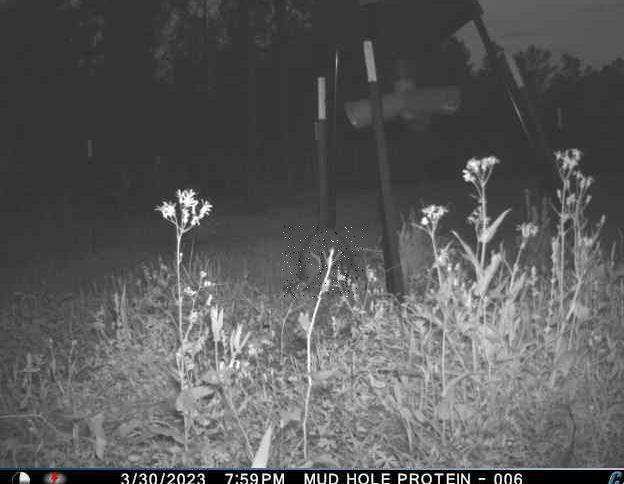Raccoon: (283, 227, 364, 299)
